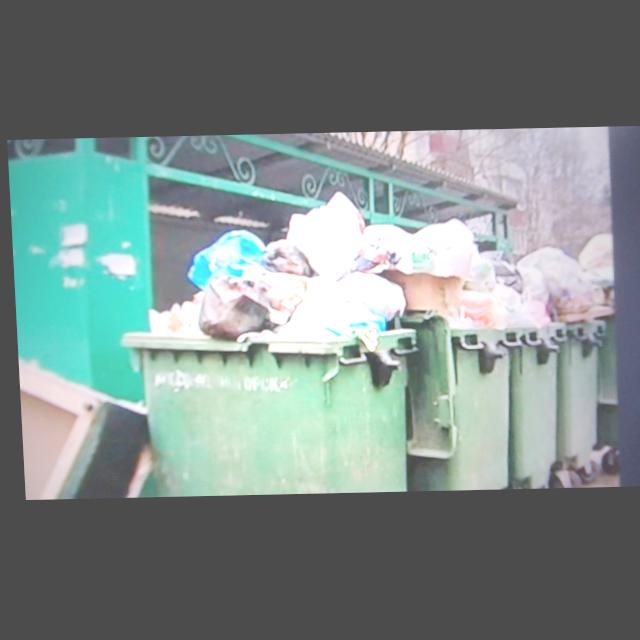Trash_Can_Full: (111, 190, 419, 498), (395, 219, 509, 493), (496, 253, 569, 491), (542, 248, 606, 461)
